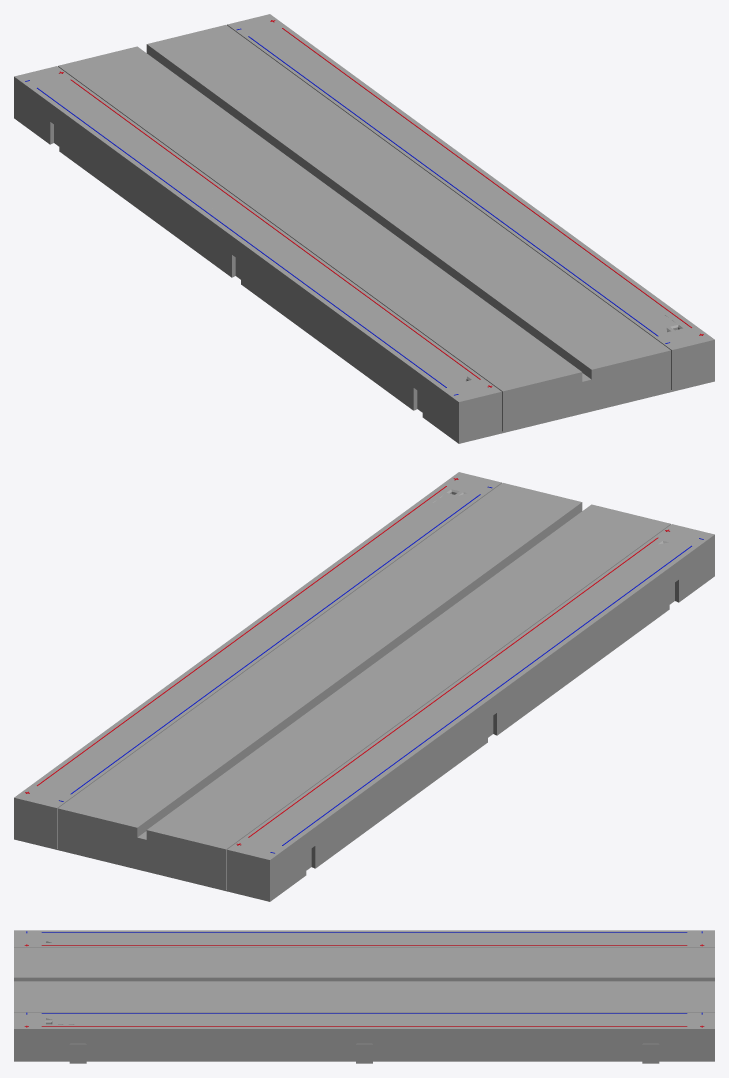
File: protoboard_model_target_generator_inicial.fbx
The picture shows the model from 3 angles, top to bottom: view 1: azimuth 30°, elevation 25°; view 2: azimuth 150°, elevation 25°; view 3: azimuth 270°, elevation 25°; orthographic projection. The views are drawn at different scales.
Parts seen in each view (by area): view 1: Protoboard, Linea_1+, Linea_2-, Linea_1-, Linea_2+; view 2: Protoboard, Linea_1+, Linea_2-, Linea_1-, Linea_2+; view 3: Protoboard, Linea_1+, Linea_1-, Linea_2+, Linea_2-.
Boxes of the visible parts, box(x1,y1,x2,y2) form: Protoboard: box(14, 14, 714, 443); Linea_1+: box(70, 79, 480, 379); Linea_2-: box(248, 36, 658, 336); Linea_1-: box(37, 87, 446, 387); Linea_2+: box(282, 28, 691, 327); Protoboard: box(14, 472, 714, 901); Linea_1+: box(248, 537, 658, 837); Linea_2-: box(70, 494, 480, 794); Linea_1-: box(282, 545, 691, 845); Linea_2+: box(37, 486, 446, 785); Protoboard: box(14, 930, 714, 1063); Linea_1+: box(41, 945, 687, 945); Linea_1-: box(41, 932, 687, 932); Linea_2+: box(41, 1026, 687, 1026); Linea_2-: box(41, 1013, 687, 1013).
Size of the model in its own units: 555 by 85.5 by 1640.
